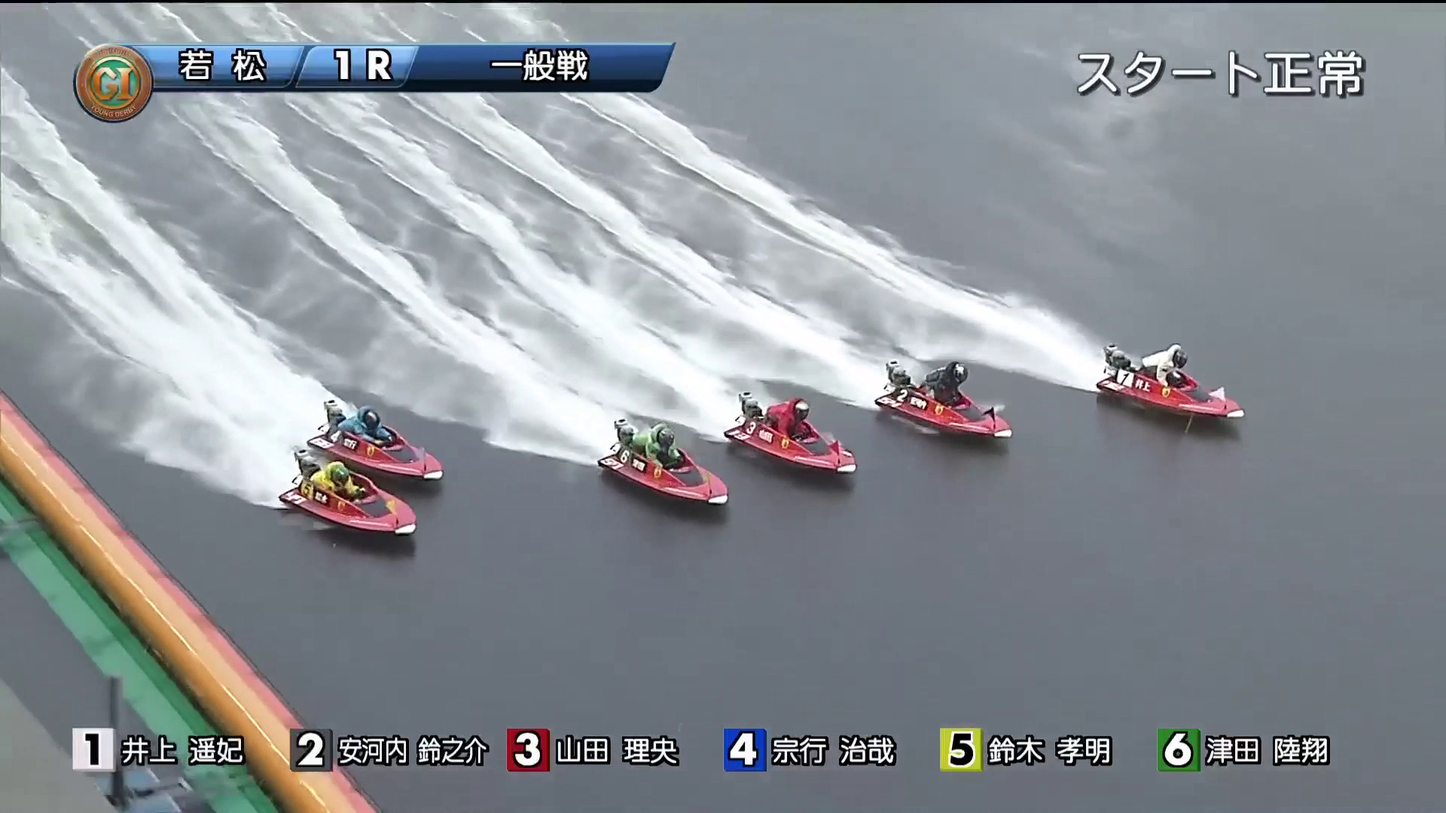１号艇: (1115, 352, 1242, 403)
２号艇: (893, 368, 1014, 424)
３号艇: (752, 425, 883, 467)
４号艇: (622, 451, 739, 512)
５号艇: (333, 427, 456, 482)
６号艇: (331, 507, 431, 564)
